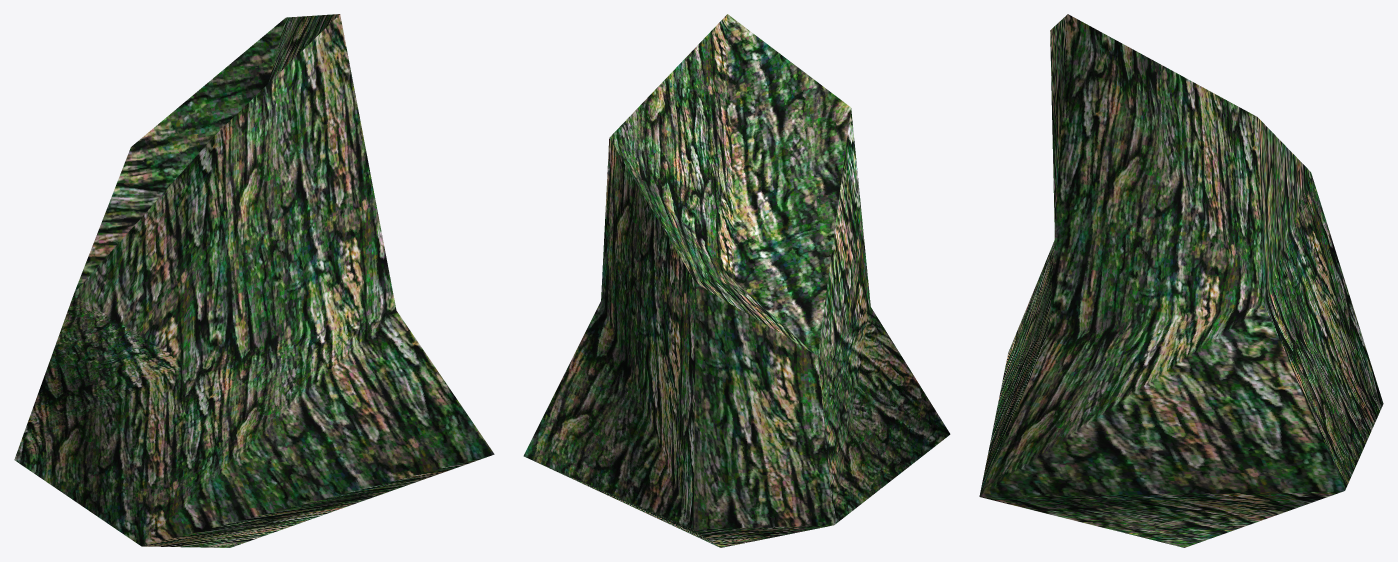
File: frst_conf_redwoodstump_sm_l3.fbx
3 renders of one model, left to right at view 1: azimuth 30°, elevation 25°; view 2: azimuth 150°, elevation 25°; view 3: azimuth 270°, elevation 25°, orthographic. The views are drawn at different scales.
Parts seen in each view (by area): view 1: mesh_node; view 2: mesh_node; view 3: mesh_node.
Part boxes in pixels (bbox=[...]): mesh_node: bbox=[14, 14, 494, 547]; mesh_node: bbox=[523, 14, 950, 547]; mesh_node: bbox=[979, 14, 1383, 547].
Bounding box in the file's own units: 3.67 × 5.85 × 3.84.
